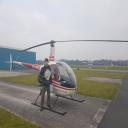helicopter: (6, 36, 89, 120)
